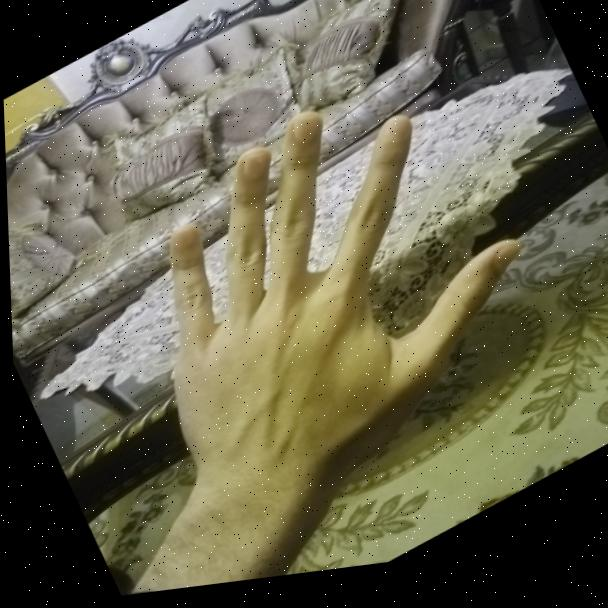five: (83, 36, 566, 525)
